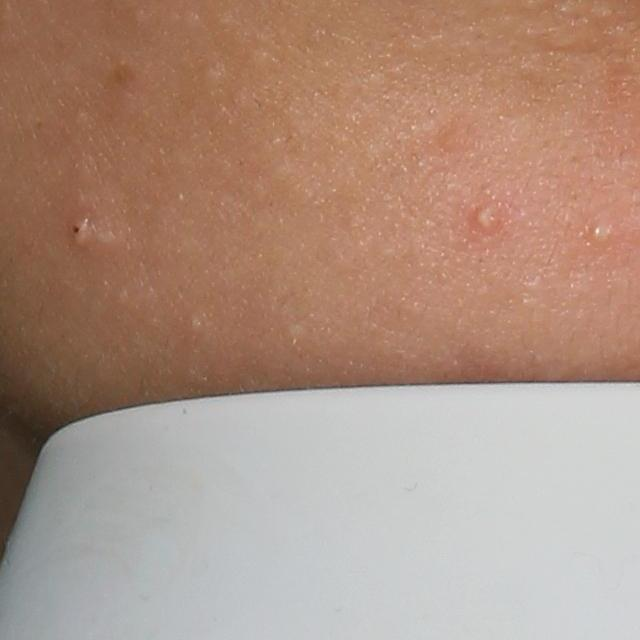comedo: (182, 315, 206, 334)
pustule: (586, 222, 617, 253)
